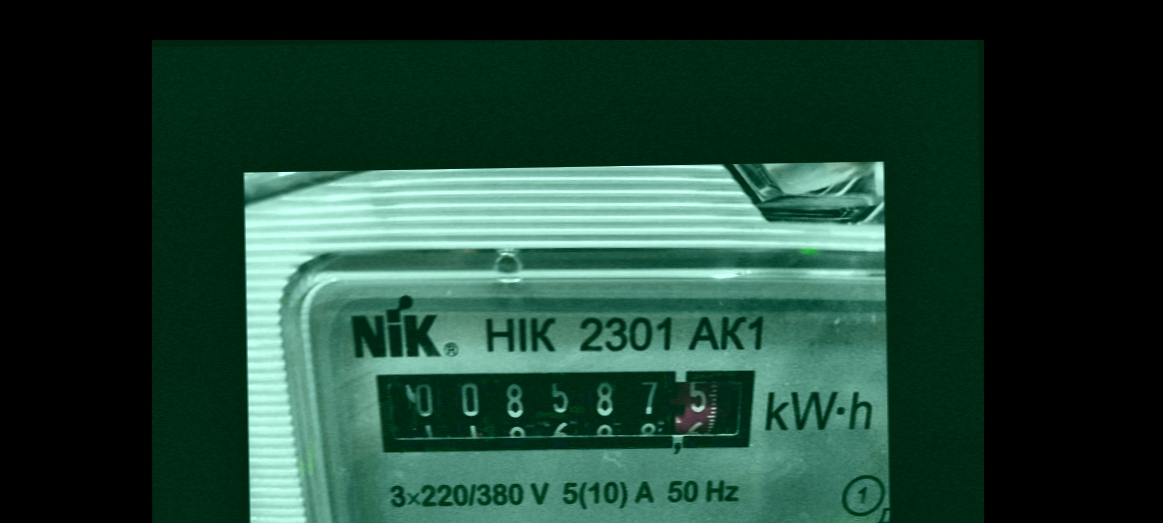0: (457, 379, 482, 419)
1: (411, 380, 436, 421)
5: (686, 376, 711, 417), (548, 379, 572, 417)
7: (637, 378, 661, 419)
8: (502, 380, 527, 422), (593, 379, 615, 420)
screen: (356, 349, 776, 475)
